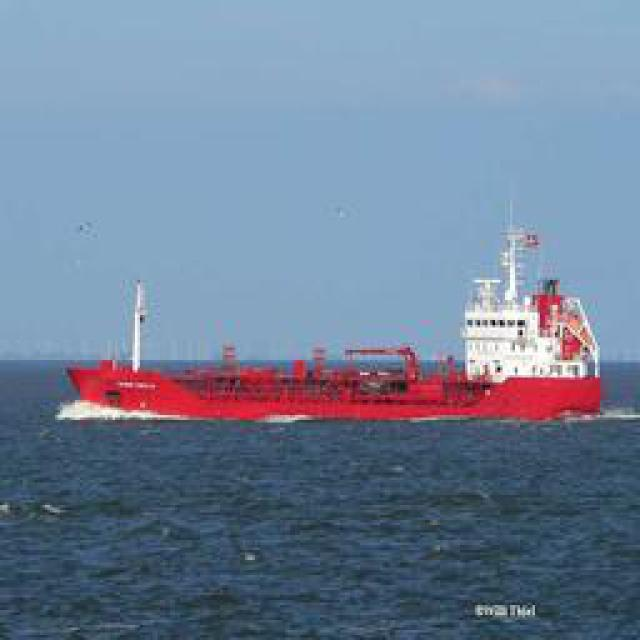Ship: (58, 212, 613, 433)
